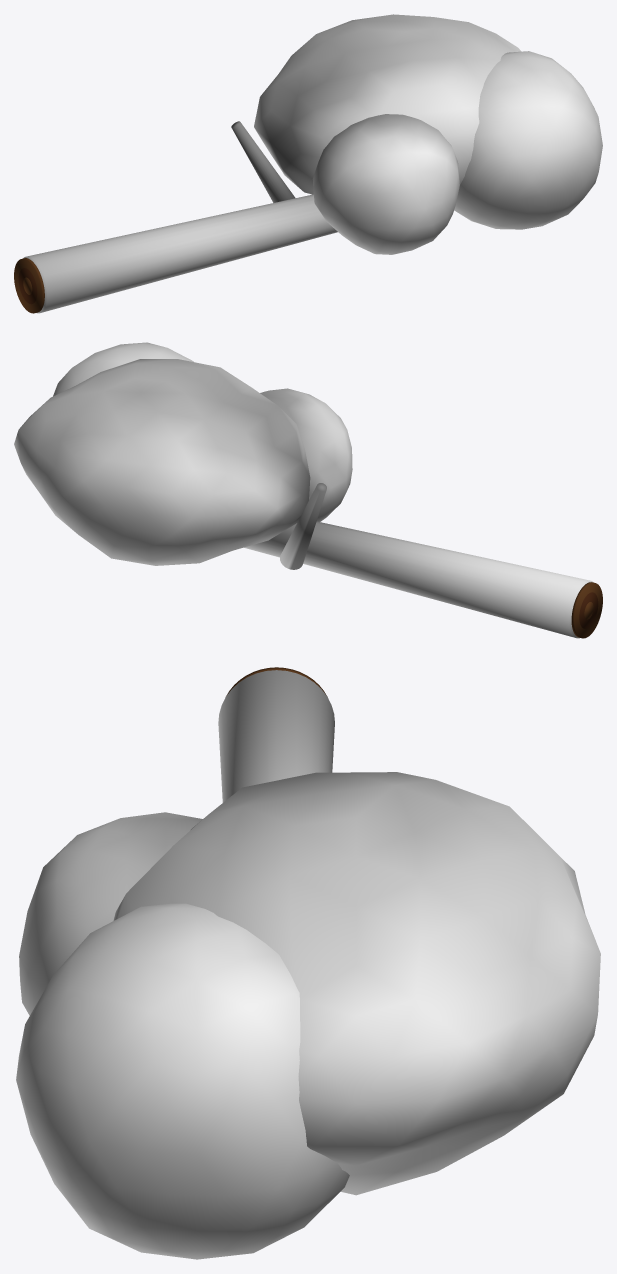
File: fallen-oak-tree.obj
The picture shows the model from 3 angles, top to bottom: view 1: azimuth 30°, elevation 25°; view 2: azimuth 150°, elevation 25°; view 3: azimuth 270°, elevation 25°; orthographic projection. The views are drawn at different scales.
Parts seen in each view (by area): view 1: fallen-oak-tree; view 2: fallen-oak-tree; view 3: fallen-oak-tree.
Boxes of the visible parts, bbox=[...] form: fallen-oak-tree: bbox=[14, 14, 602, 313]; fallen-oak-tree: bbox=[14, 342, 602, 638]; fallen-oak-tree: bbox=[16, 667, 600, 1259].
Bounding box in the file's own units: 4.71 × 1.5 × 2.2.
